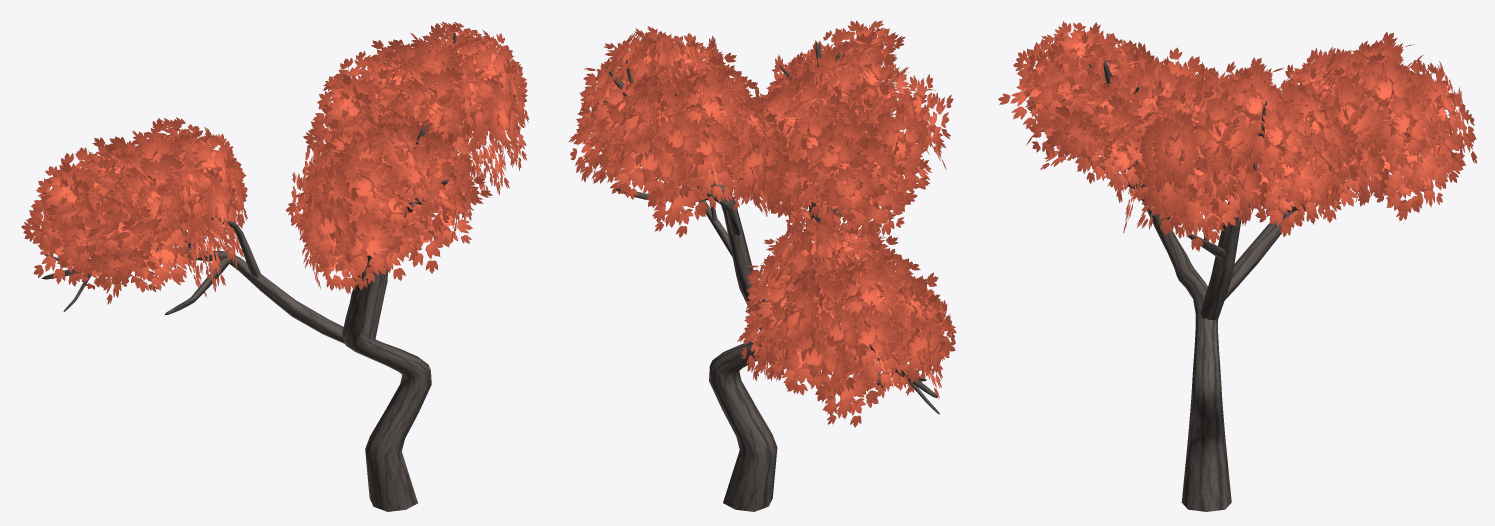
The model's file is MapleTree_2.glb.
The picture shows the model from 3 angles, left to right: view 1: azimuth 30°, elevation 25°; view 2: azimuth 150°, elevation 25°; view 3: azimuth 270°, elevation 25°; orthographic projection. The views are drawn at different scales.
Size of the model in its own units: 6.7 by 6.71 by 6.24.
Materials: 2 (2 with a texture image).
